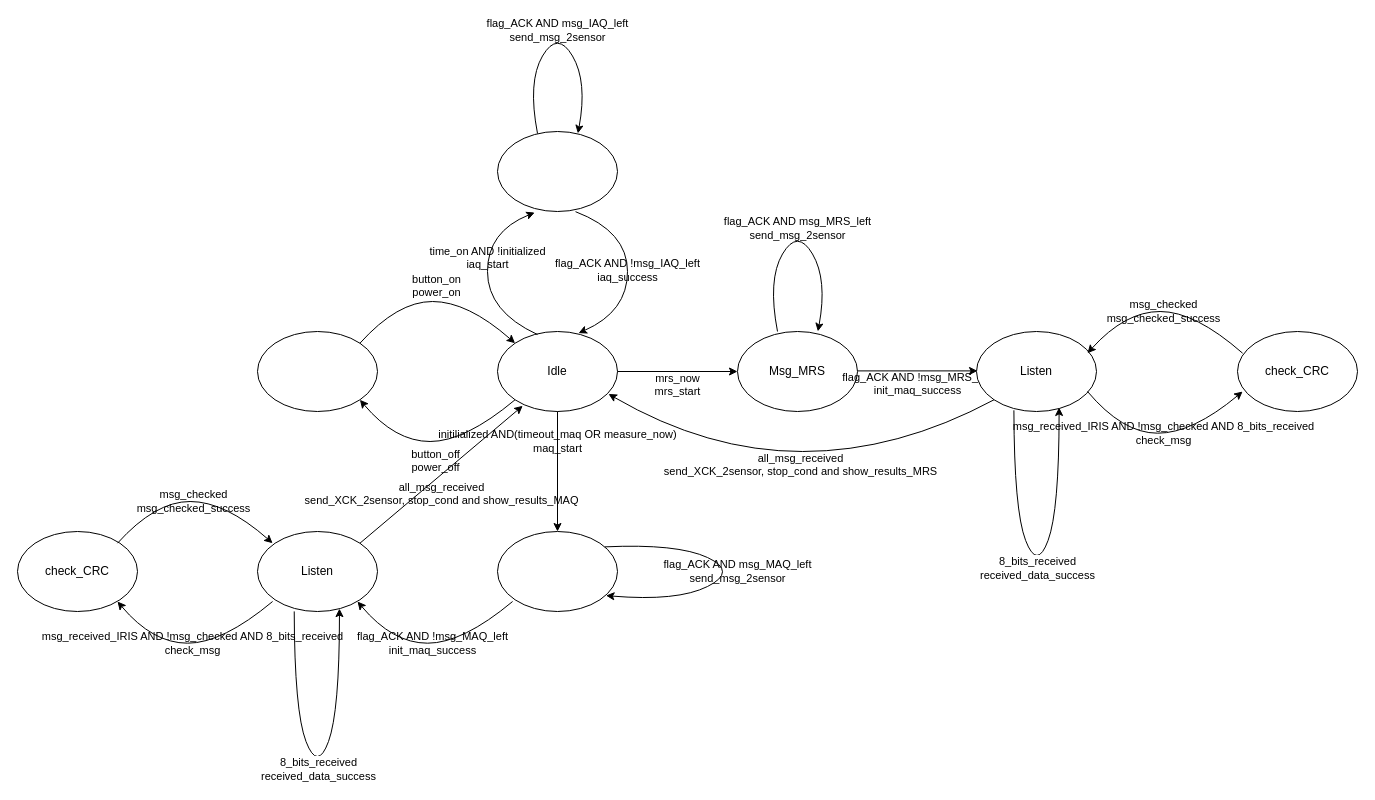
The diagram is 1375 pixels wide and 800 high, and some of its shapes have lost their labels. The centre of each missing label's shape, as x and y in pixels:
Msg_IAQ: (557,171)
Msg_MAQ: (557,571)
Sleep: (317,371)
